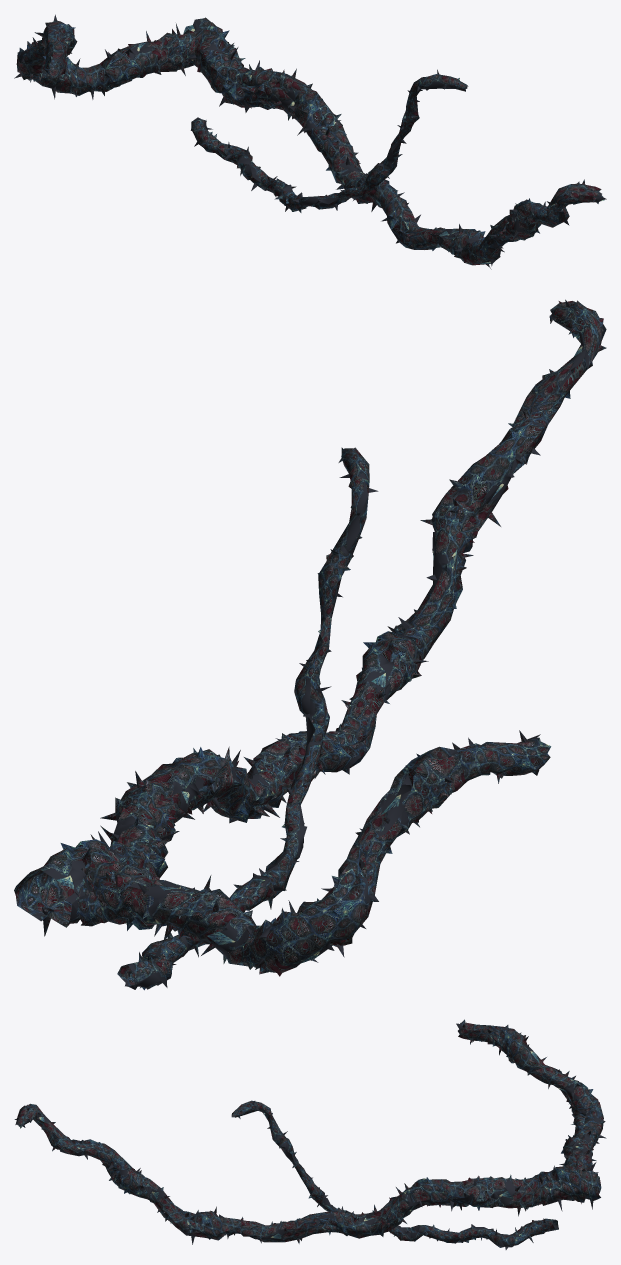
File: 02_16_makaizyu_04.fbx
The picture shows the model from 3 angles, top to bottom: view 1: azimuth 30°, elevation 25°; view 2: azimuth 150°, elevation 25°; view 3: azimuth 270°, elevation 25°; orthographic projection. The views are drawn at different scales.
Parts seen in each view (by area): view 1: LODGroup_3_MainMesh_1_SubMesh_1, LODGroup_3_MainMesh_1_SubMesh_2, LODGroup_3_MainMesh_1_SubMesh_3; view 2: LODGroup_3_MainMesh_1_SubMesh_1, LODGroup_3_MainMesh_1_SubMesh_2, LODGroup_3_MainMesh_1_SubMesh_3; view 3: LODGroup_3_MainMesh_1_SubMesh_1, LODGroup_3_MainMesh_1_SubMesh_2, LODGroup_3_MainMesh_1_SubMesh_3.
Part boxes in pixels (x1,y1,x2,y2): LODGroup_3_MainMesh_1_SubMesh_1: (14,14,604,269); LODGroup_3_MainMesh_1_SubMesh_2: (17,22,606,265); LODGroup_3_MainMesh_1_SubMesh_3: (190,69,468,212); LODGroup_3_MainMesh_1_SubMesh_1: (14,299,606,969); LODGroup_3_MainMesh_1_SubMesh_2: (34,300,603,976); LODGroup_3_MainMesh_1_SubMesh_3: (117,447,378,990); LODGroup_3_MainMesh_1_SubMesh_1: (14,1019,606,1244); LODGroup_3_MainMesh_1_SubMesh_2: (15,1023,605,1241); LODGroup_3_MainMesh_1_SubMesh_3: (231,1100,558,1249).
Bounding box in the file's own units: 2186 × 1492 × 4949.
